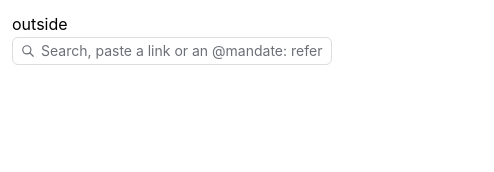
Lineage element picker › resolves a pasted reference first and closes on Esc and on a click outside
Later steps or results of the test are not shown.
Type "@mandate:mandate://specs/login-sso" into the field named "Pick an element".
click(182, 51); type("@mandate:mandate://specs/login-sso")  # box [41,41,323,61]
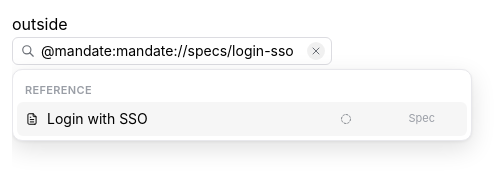
Check: the option shows "Login with SSO", box [17,102,467,136]
Esc clears the text first (shared SearchField), then closes the list.
Press Escape in the field named "Pick an element", box [41,41,301,61]
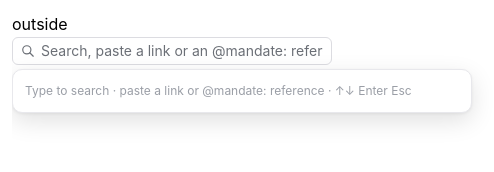
Press Escape in the field named "Pick an element", box [41,41,323,61]
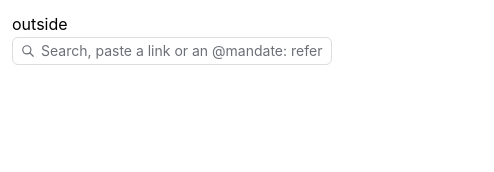
Check: the list with test id "picker-list" is gone
